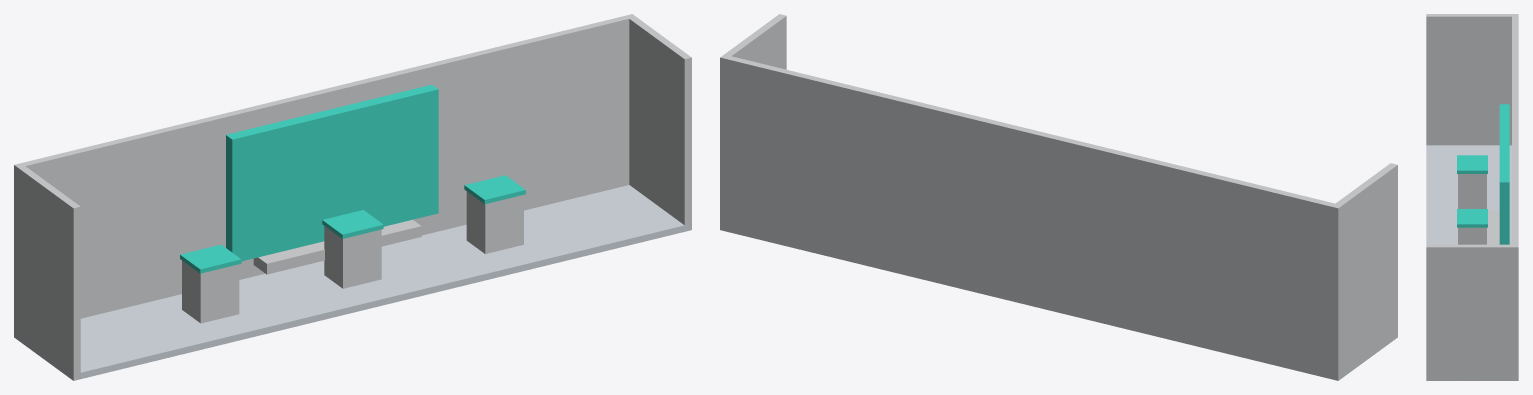
3 renders of one model, left to right at view 1: azimuth 30°, elevation 25°; view 2: azimuth 150°, elevation 25°; view 3: azimuth 270°, elevation 25°, orthographic. The views are drawn at different scales.
Parts seen in each view (by area): view 1: Exhibition Booth Concept; view 2: Exhibition Booth Concept; view 3: Exhibition Booth Concept.
Boxes of the visible parts, <box> form: Exhibition Booth Concept: <box>14,14,691,380</box>; Exhibition Booth Concept: <box>720,14,1397,380</box>; Exhibition Booth Concept: <box>1426,14,1518,380</box>.
Size of the model in its own units: 12 by 3.2 by 2.
